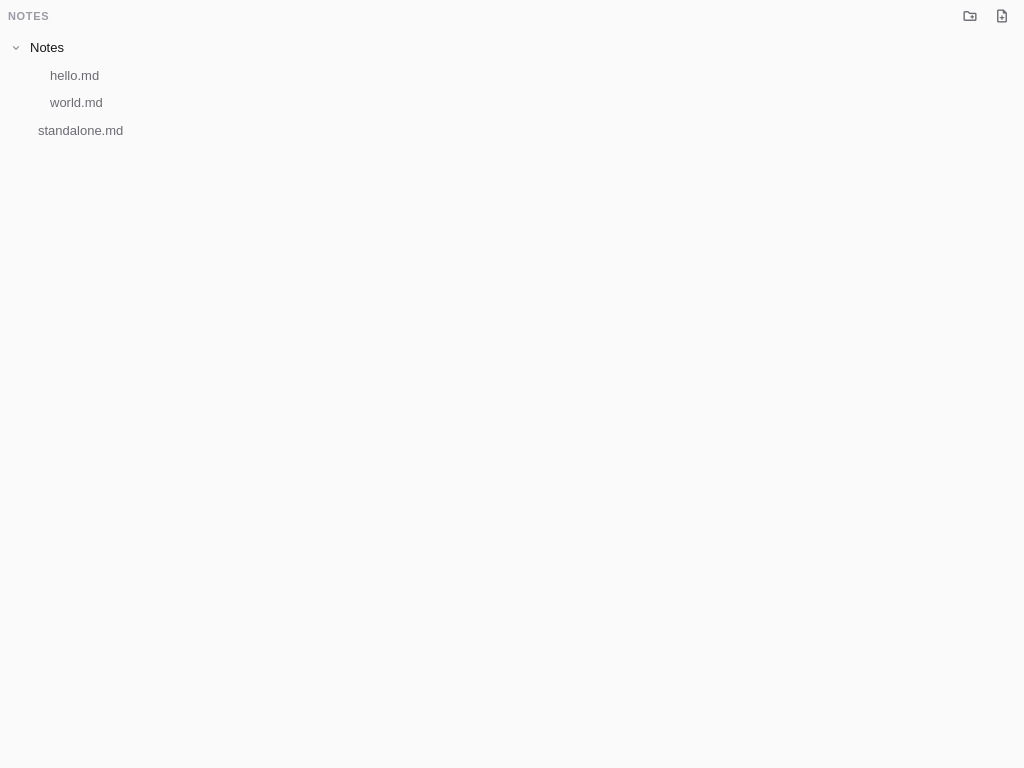
it: FileTree CRUD actions › shows error toast on 409 for new-note (optimistic rollback)
This screenshot has width=1024, height=768.
Click the button named "New note" at (1002, 16), box x1=988 y1=2 x2=1016 y2=30
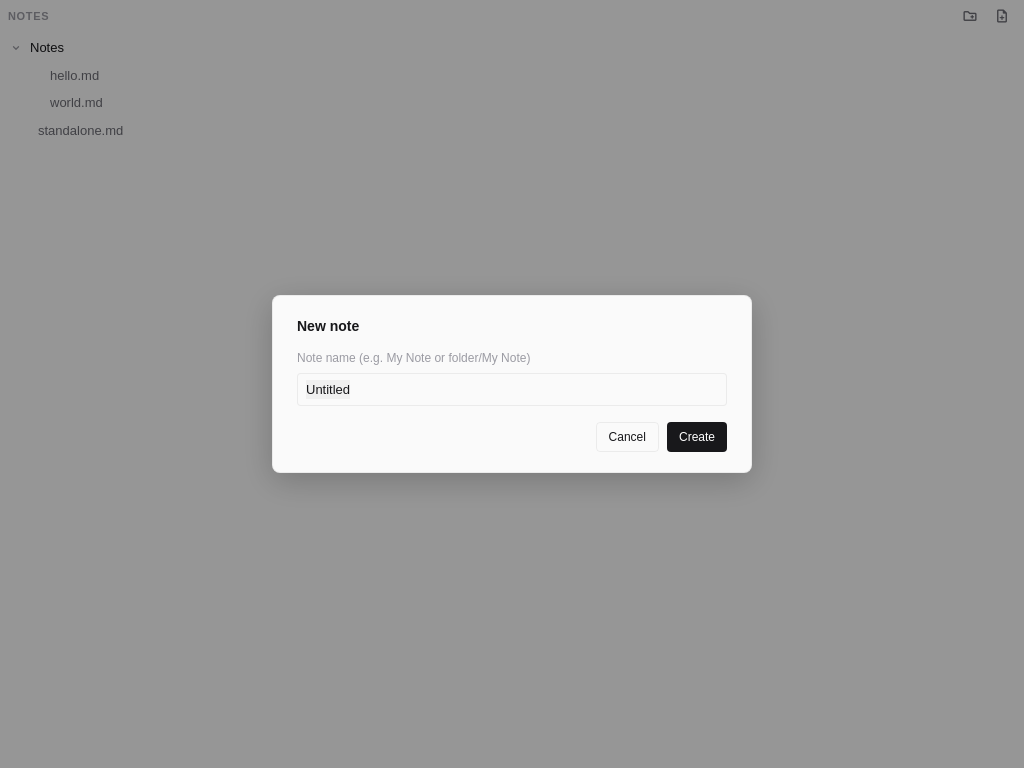
Replace the text in the field with "ExistingNote" at (512, 390), box x1=297 y1=373 x2=727 y2=406
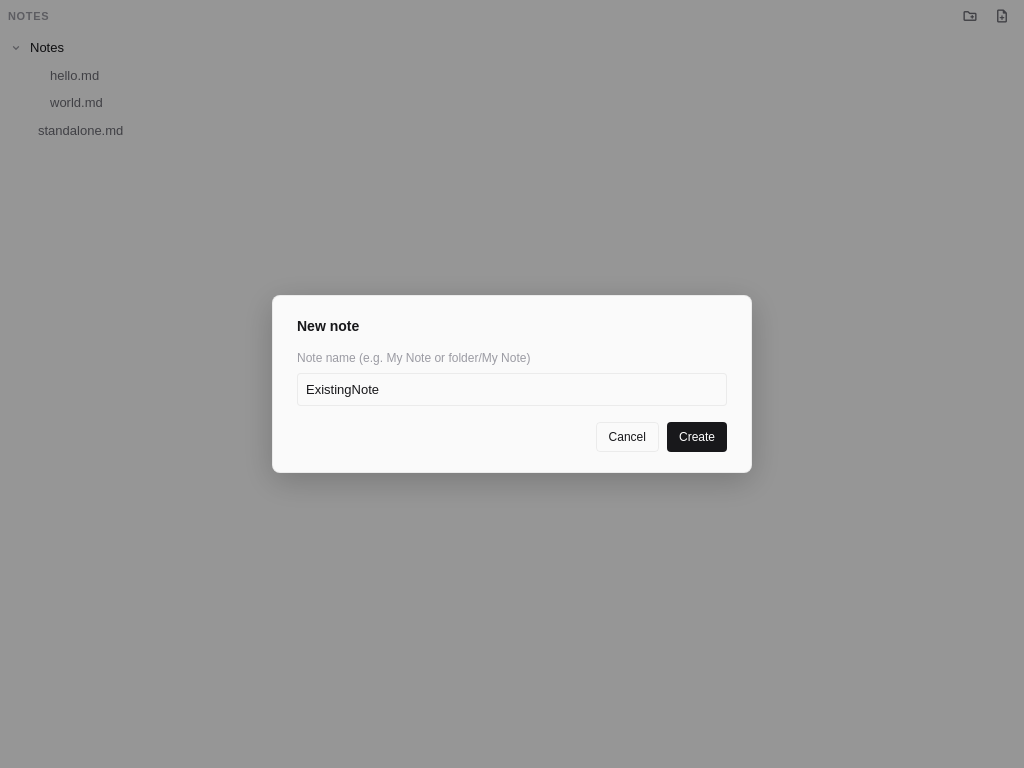
Press Enter in the field, box x1=297 y1=373 x2=727 y2=406
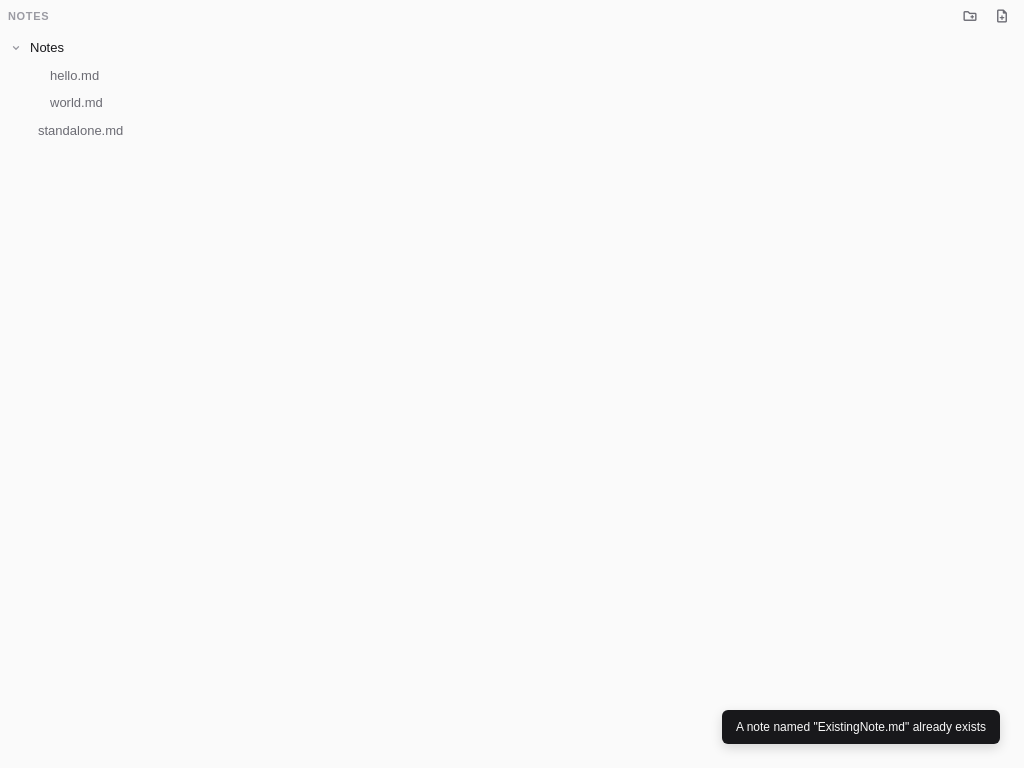
Check: the message shows "already exists", box x1=736 y1=720 x2=986 y2=734
